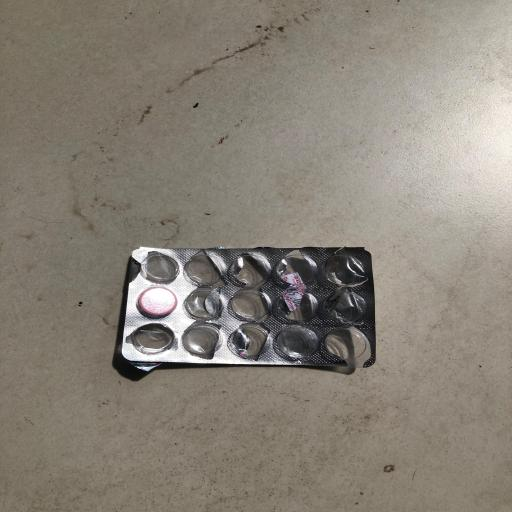waste: (107, 237, 395, 371)
